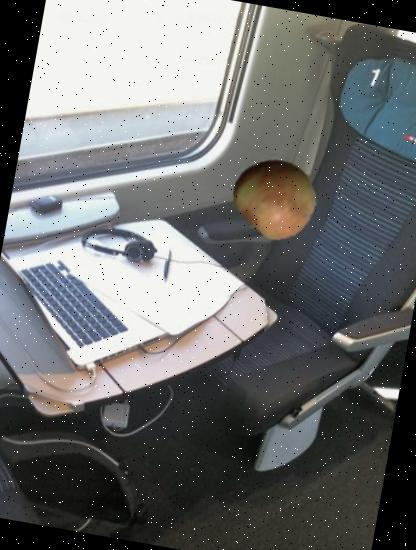Apple: (228, 150, 323, 245)
